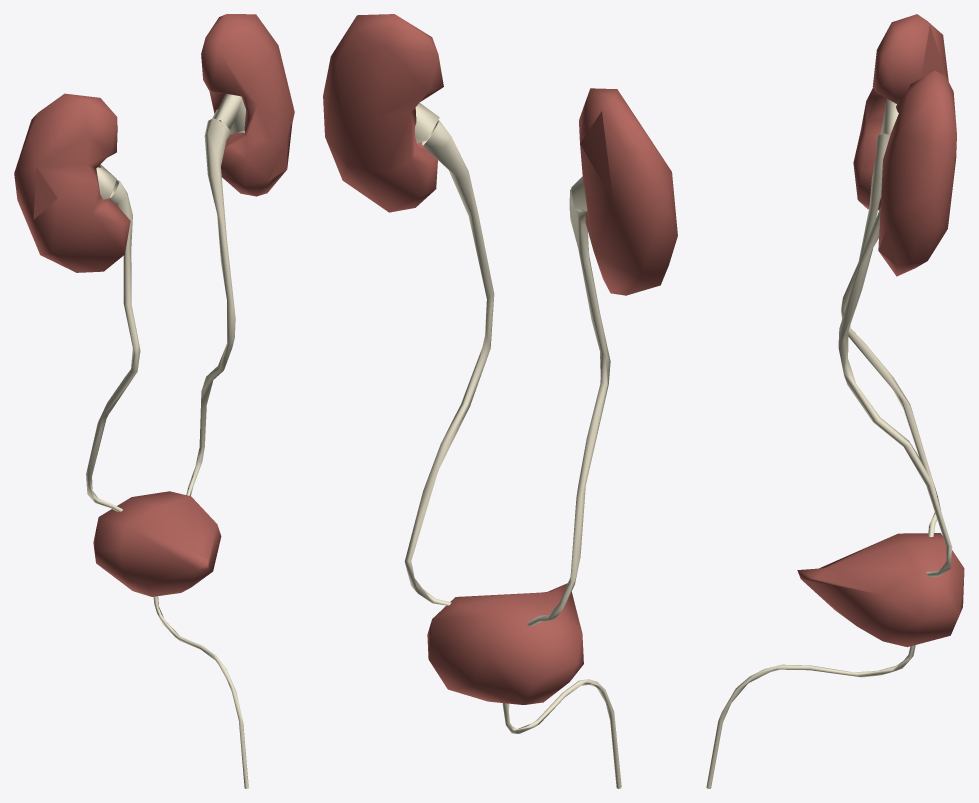
Rendered from adult_male.urinary.LOD3.glb.
3 views of the same model, side by side, from view 1: azimuth 30°, elevation 25°; view 2: azimuth 150°, elevation 25°; view 3: azimuth 270°, elevation 25° (orthographic). The views are drawn at different scales.
Visible parts, largest first — view 1: ADULT.MALE.URINARY.KIDNEY.R, ADULT.MALE.URINARY.KIDNEY.L, ADULT.MALE.URINARY.URINARY_BLADDER, ADULT.MALE.URINARY.URETER.L, ADULT.MALE.URINARY.URETER.R, ADULT.MALE.URINARY.URETHRA, ADULT.MALE.URINARY.RENAL_PELVIS.L; view 2: ADULT.MALE.URINARY.KIDNEY.L, ADULT.MALE.URINARY.KIDNEY.R, ADULT.MALE.URINARY.URINARY_BLADDER, ADULT.MALE.URINARY.URETER.L, ADULT.MALE.URINARY.URETER.R, ADULT.MALE.URINARY.URETHRA, ADULT.MALE.URINARY.RENAL_PELVIS.L; view 3: ADULT.MALE.URINARY.URINARY_BLADDER, ADULT.MALE.URINARY.KIDNEY.L, ADULT.MALE.URINARY.KIDNEY.R, ADULT.MALE.URINARY.URETER.L, ADULT.MALE.URINARY.URETER.R, ADULT.MALE.URINARY.URETHRA.
Part boxes in pixels (x1,y1,x2,y2): ADULT.MALE.URINARY.KIDNEY.R: [14, 93, 130, 272]; ADULT.MALE.URINARY.KIDNEY.L: [201, 14, 294, 196]; ADULT.MALE.URINARY.URINARY_BLADDER: [93, 491, 221, 596]; ADULT.MALE.URINARY.URETER.L: [186, 118, 235, 496]; ADULT.MALE.URINARY.URETER.R: [86, 180, 140, 511]; ADULT.MALE.URINARY.URETHRA: [153, 596, 248, 788]; ADULT.MALE.URINARY.RENAL_PELVIS.L: [212, 93, 245, 134]; ADULT.MALE.URINARY.KIDNEY.L: [323, 14, 443, 212]; ADULT.MALE.URINARY.KIDNEY.R: [579, 88, 677, 295]; ADULT.MALE.URINARY.URINARY_BLADDER: [427, 583, 583, 704]; ADULT.MALE.URINARY.URETER.L: [404, 120, 494, 605]; ADULT.MALE.URINARY.URETER.R: [526, 189, 610, 626]; ADULT.MALE.URINARY.URETHRA: [502, 679, 621, 788]; ADULT.MALE.URINARY.RENAL_PELVIS.L: [415, 102, 439, 143]; ADULT.MALE.URINARY.URINARY_BLADDER: [797, 533, 964, 647]; ADULT.MALE.URINARY.KIDNEY.L: [878, 70, 956, 276]; ADULT.MALE.URINARY.KIDNEY.R: [853, 14, 948, 210]; ADULT.MALE.URINARY.URETER.L: [838, 207, 952, 576]; ADULT.MALE.URINARY.URETER.R: [841, 133, 940, 536]; ADULT.MALE.URINARY.URETHRA: [706, 645, 915, 788].
Size of the model in its own units: 0.1782 by 0.4213 by 0.1293.
